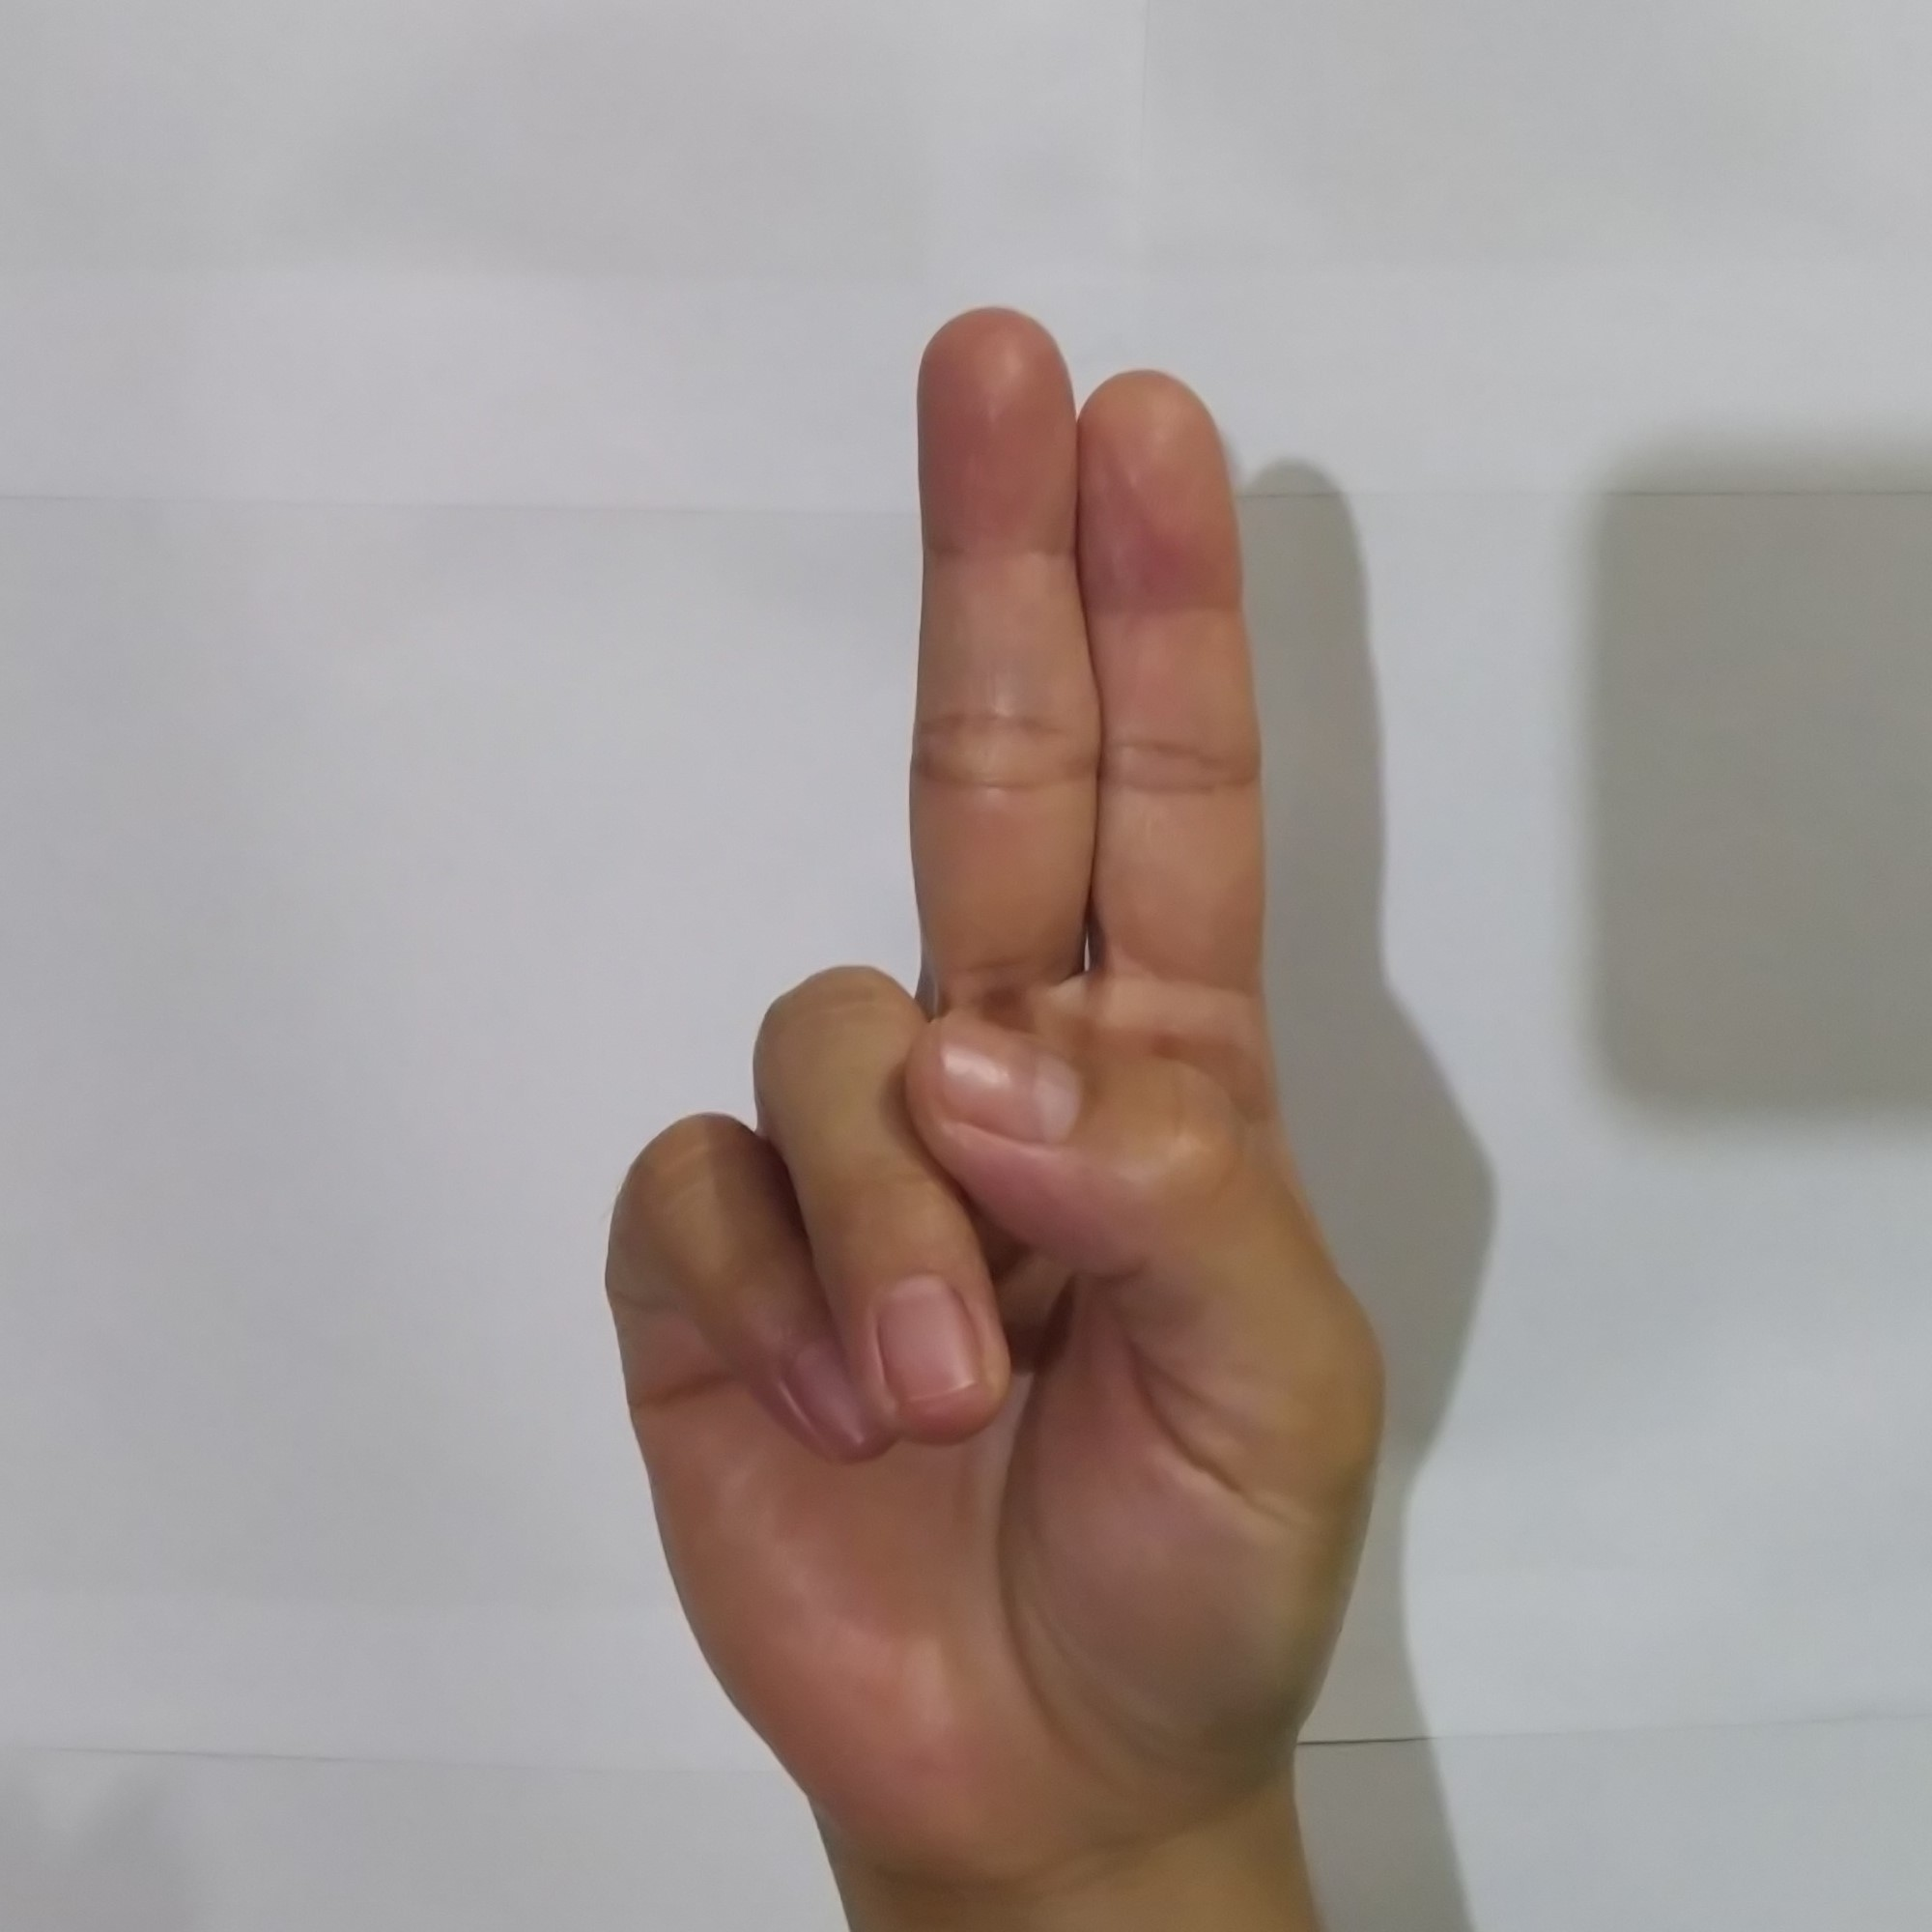U: (573, 280, 1412, 1868)
